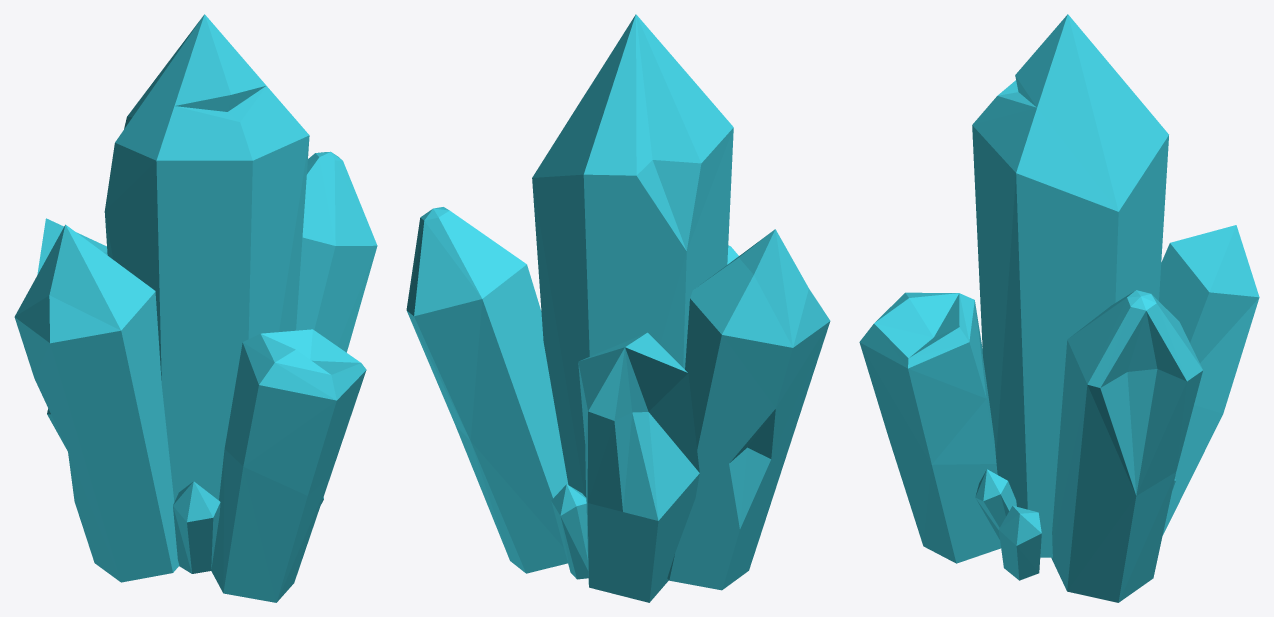
Rendered from Kristall_02.fbx.
3 renders of one model, left to right at view 1: azimuth 30°, elevation 25°; view 2: azimuth 150°, elevation 25°; view 3: azimuth 270°, elevation 25°, orthographic. The views are drawn at different scales.
Parts seen in each view (by area): view 1: Cylinder.006; view 2: Cylinder.006; view 3: Cylinder.006.
Part boxes in pixels (<box>): Cylinder.006: <box>14,14,377,602</box>; Cylinder.006: <box>406,14,830,602</box>; Cylinder.006: <box>859,14,1259,602</box>.
Bounding box in the file's own units: 58.98 × 85.56 × 57.35.
